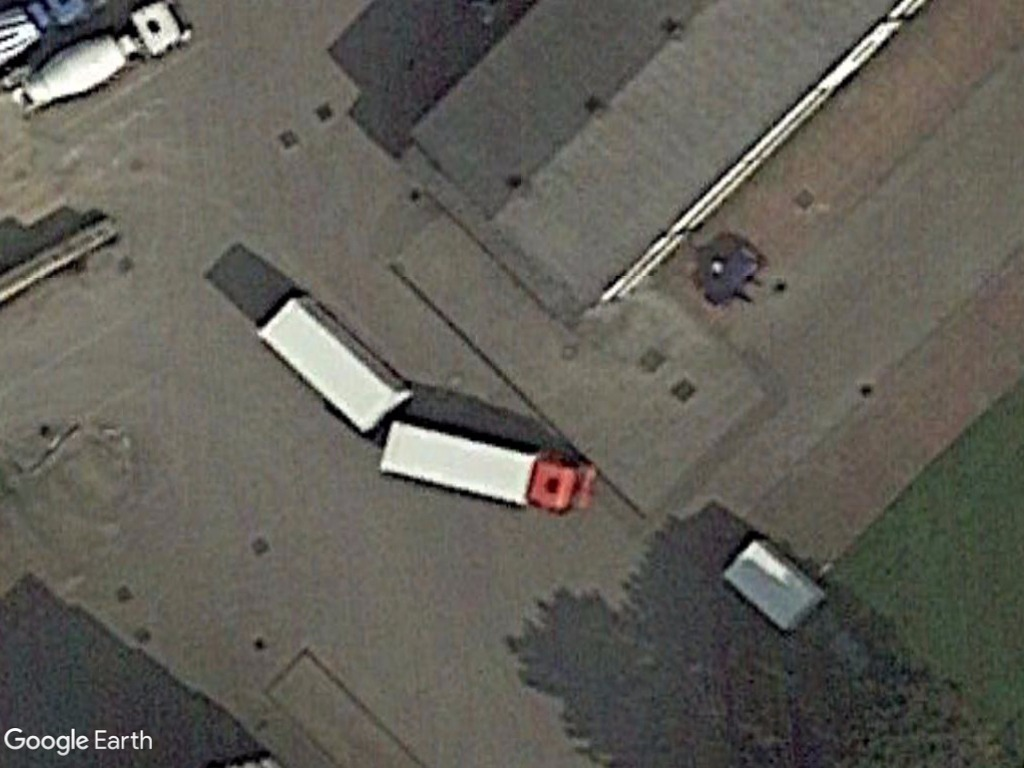longvehicle: (253, 279, 411, 433)
truck: (376, 416, 593, 527)
